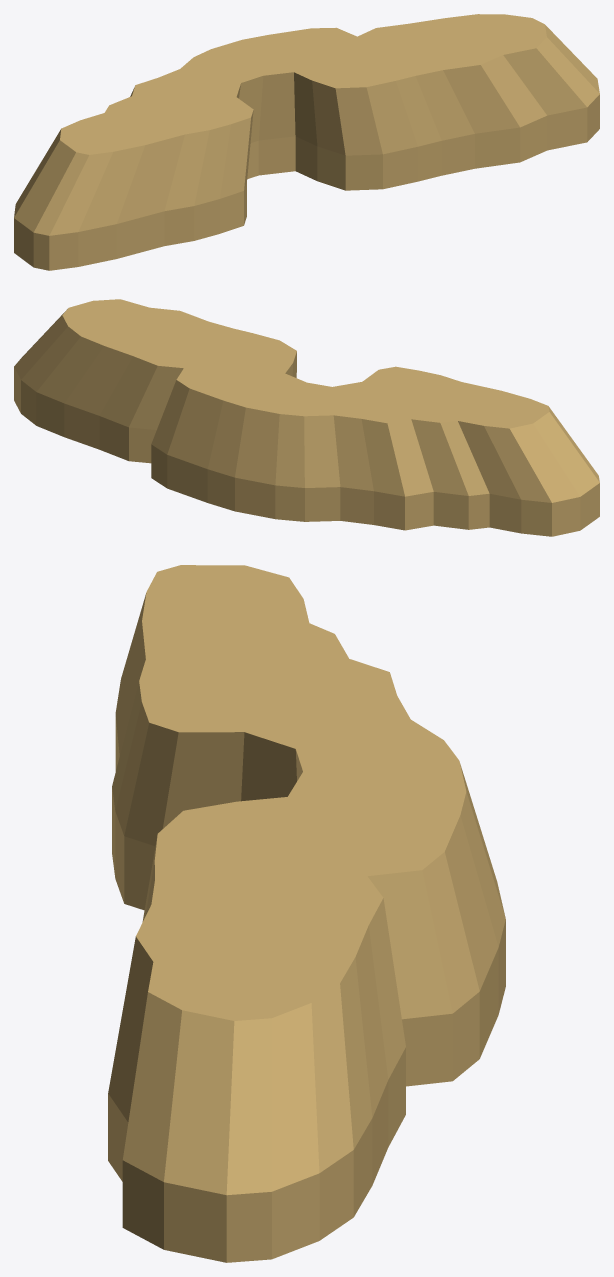
The model's file is RedObstacle6.fbx.
The picture shows the model from 3 angles, top to bottom: view 1: azimuth 30°, elevation 25°; view 2: azimuth 150°, elevation 25°; view 3: azimuth 270°, elevation 25°; orthographic projection. The views are drawn at different scales.
Visible parts, largest first — view 1: RedObstacle6; view 2: RedObstacle6; view 3: RedObstacle6.
Boxes of the visible parts, left/top/right/bottom form: RedObstacle6: left=14, top=14, right=599, bottom=270; RedObstacle6: left=14, top=299, right=599, bottom=536; RedObstacle6: left=108, top=565, right=505, bottom=1262.
Bounding box in the file's own units: 9.03 × 1.49 × 2.77.
